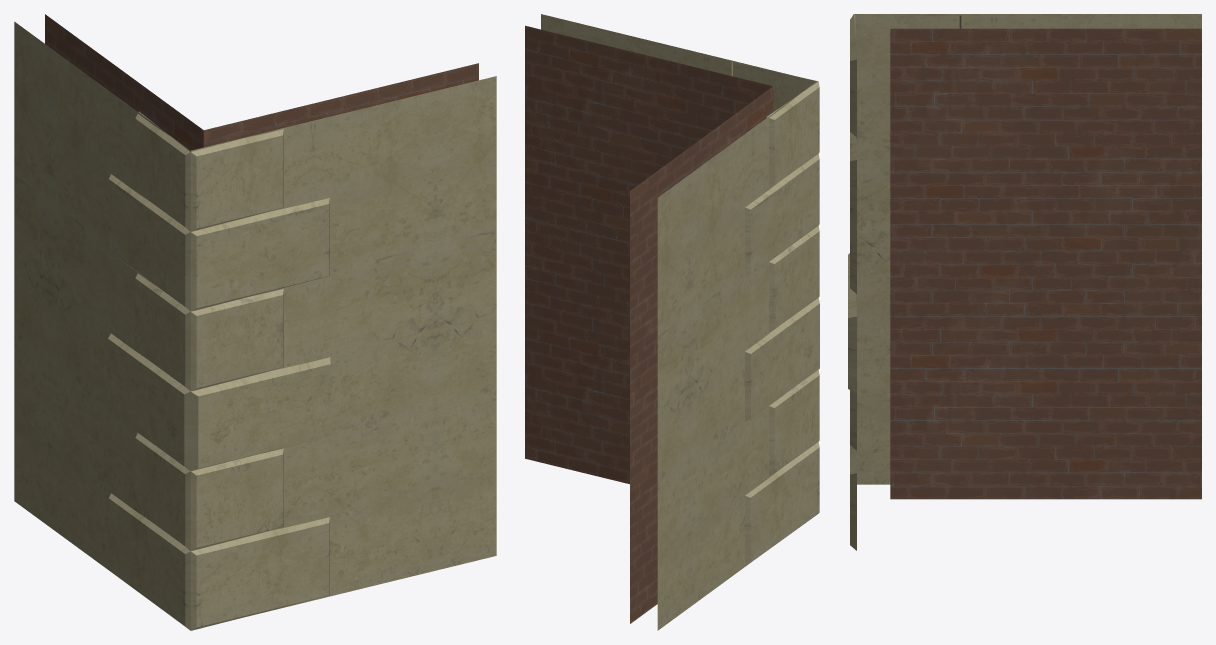
Rendered from Marble_Corner.gltf.
3 renders of one model, left to right at view 1: azimuth 30°, elevation 25°; view 2: azimuth 150°, elevation 25°; view 3: azimuth 270°, elevation 25°, orthographic. The views are drawn at different scales.
Parts seen in each view (by area): view 1: Marble_Corner; view 2: Marble_Corner; view 3: Marble_Corner.
Part boxes in pixels (bbox=[...]): Marble_Corner: bbox=[14, 14, 496, 630]; Marble_Corner: bbox=[525, 14, 819, 630]; Marble_Corner: bbox=[848, 14, 1201, 550].
Size of the model in its own units: 2.03 by 3 by 2.04.
2 materials, 2 textured.
